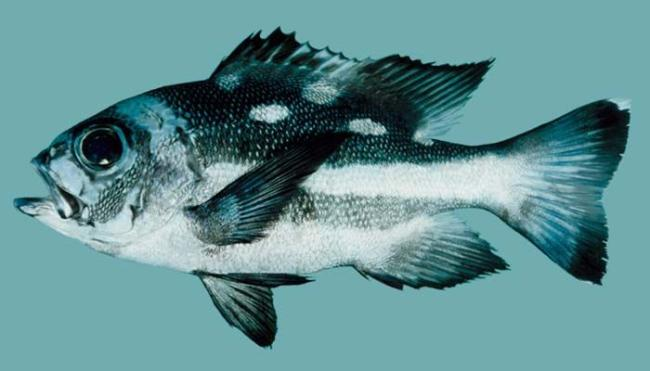fish: (14, 26, 635, 351)
